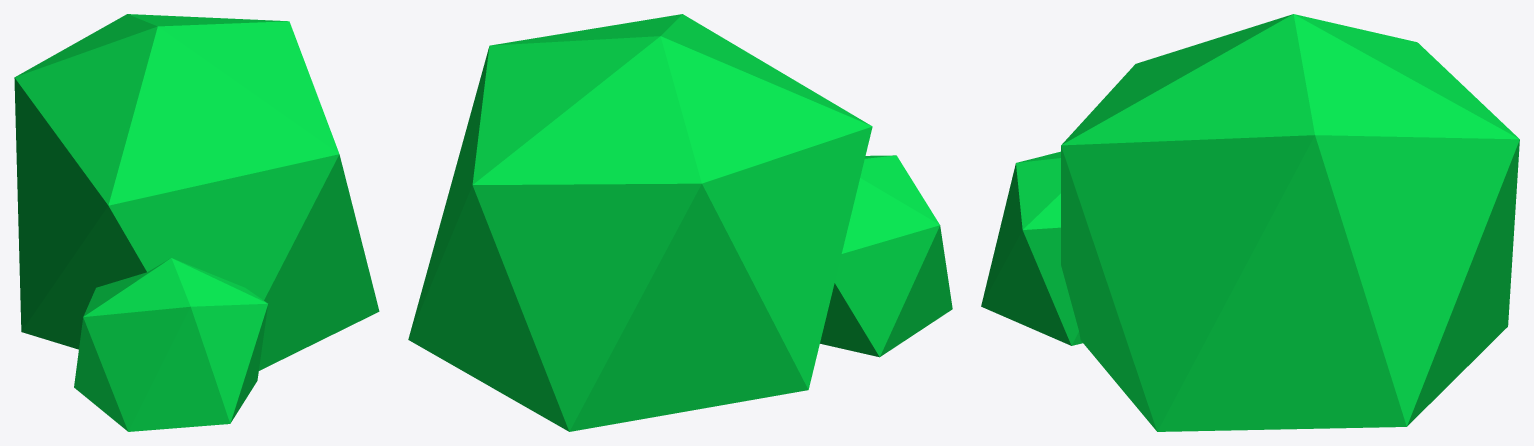
File: Moita3.fbx
The picture shows the model from 3 angles, left to right: view 1: azimuth 30°, elevation 25°; view 2: azimuth 150°, elevation 25°; view 3: azimuth 270°, elevation 25°; orthographic projection. The views are drawn at different scales.
Parts seen in each view (by area): view 1: Icosphere.002; view 2: Icosphere.002; view 3: Icosphere.002.
Boxes of the visible parts, left/top/right/bottom form: Icosphere.002: left=14, top=14, right=379, bottom=431; Icosphere.002: left=408, top=14, right=952, bottom=431; Icosphere.002: left=981, top=14, right=1519, bottom=431.
Bounding box in the file's own units: 150 × 126 × 182.
